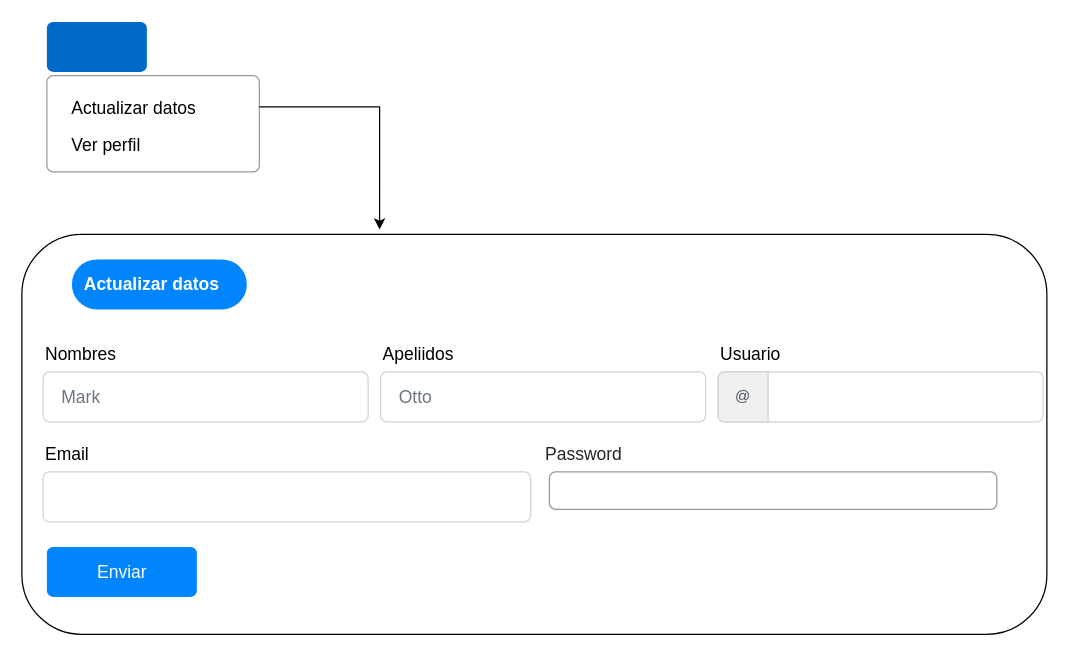
Image size: 1069x656. Some labels were removed from this diagram. Here are the shapes that lost their labels. From the top down, the box of each, then its label:
(46, 21, 146, 71): E - Porra
(42, 471, 531, 522): example@example.com
